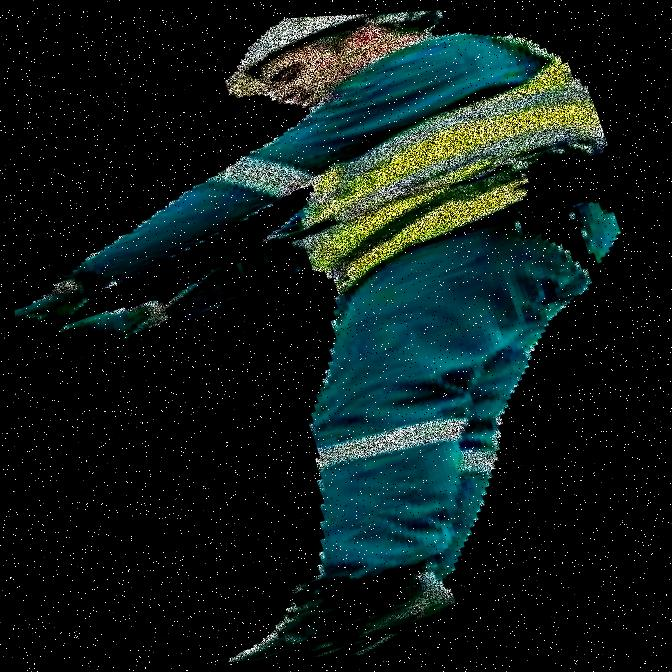Pessoa: (324, 0, 403, 671)
